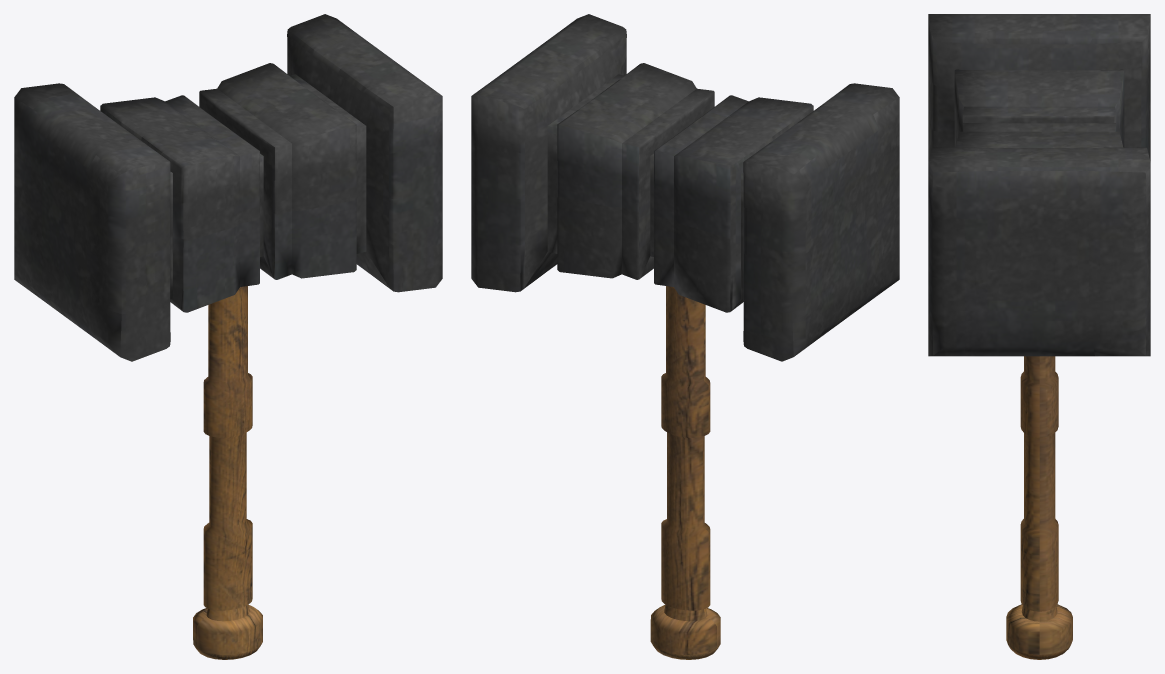
The model's file is hammer.FBX.
3 views of the same model, side by side, from view 1: azimuth 30°, elevation 25°; view 2: azimuth 150°, elevation 25°; view 3: azimuth 270°, elevation 25° (orthographic).
Parts seen in each view (by area): view 1: pCube1, pCylinder1; view 2: pCube1, pCylinder1; view 3: pCube1, pCylinder1.
Part boxes in pixels (left/top/right/bottom): pCube1: left=14, top=14, right=442, bottom=361; pCylinder1: left=193, top=286, right=262, bottom=659; pCube1: left=471, top=14, right=899, bottom=361; pCylinder1: left=650, top=286, right=720, bottom=659; pCube1: left=928, top=14, right=1150, bottom=356; pCylinder1: left=1006, top=356, right=1072, bottom=659.
Size of the model in its own units: 0.2444 by 0.3891 by 0.14.
Materials: 2 (2 with a texture image).
